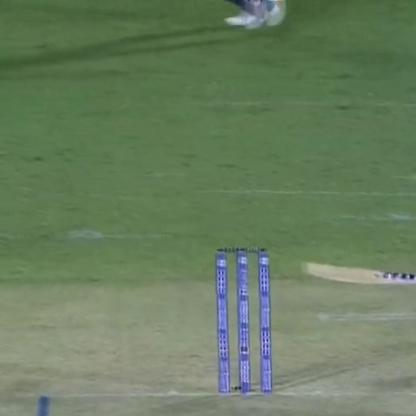bat: (298, 245, 416, 295)
